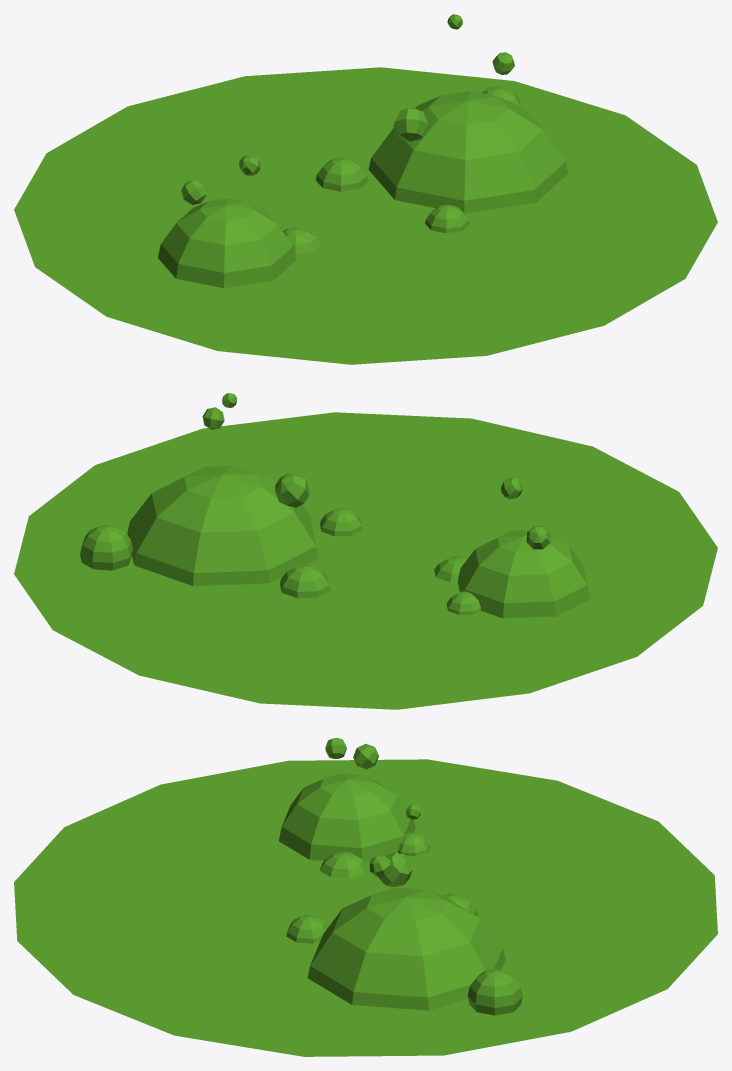
File: Cauldron_Colour.fbx
3 views of the same model, one above another, from view 1: azimuth 30°, elevation 25°; view 2: azimuth 150°, elevation 25°; view 3: azimuth 270°, elevation 25° (orthographic).
Visible parts, largest first — view 1: Cauldron_Colour; view 2: Cauldron_Colour; view 3: Cauldron_Colour.
Boxes of the visible parts, x1,y1,x2,y2 form: Cauldron_Colour: [14, 14, 717, 364]; Cauldron_Colour: [14, 393, 717, 709]; Cauldron_Colour: [14, 738, 717, 1056].
Bounding box in the file's own units: 80.25 × 23.14 × 80.25.
